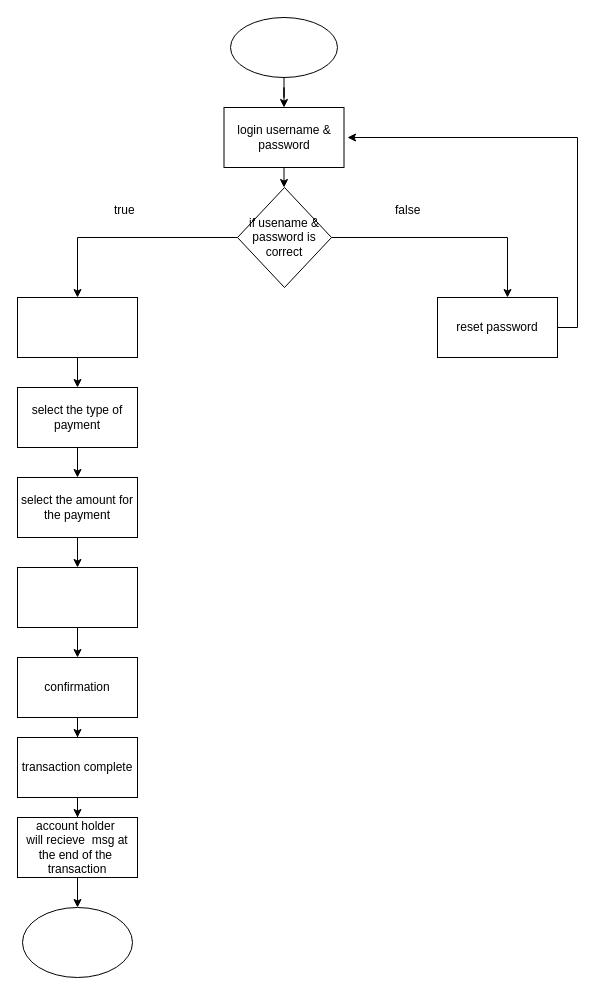
Image size: 603x995. Some labels were removed from this diagram. Here are the shapes that lost their labels. From the top down, the centre of each, then its label:
At [284,47]: "start".
At [77,327]: "order placed by customer".
At [77,597]: "reveiw and then submit".
At [77,942]: "stop".
